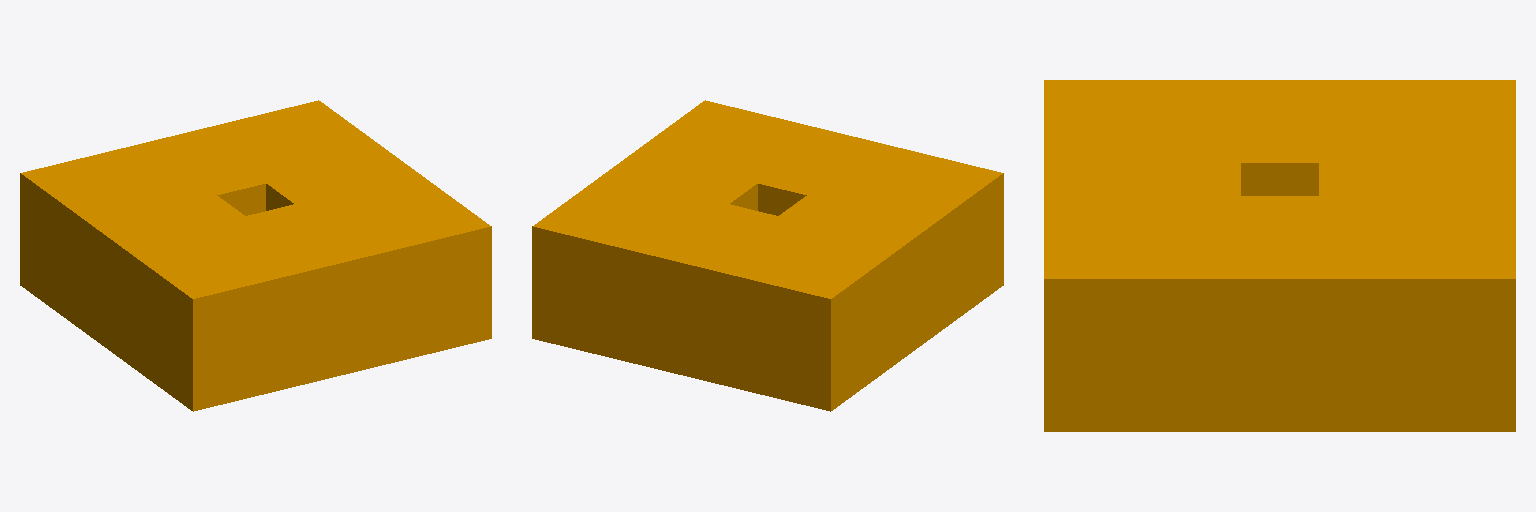
The robot description file, URDF, robot "factory_rectangular_hole_4mm":
<?xml version="1.0"?>
<robot name="factory_rectangular_hole_4mm">
    <link name="factory_rectangular_hole_4mm">
        <visual>
            <geometry>
                <mesh filename="../mesh/factory_insertion/factory_rectangular_hole_4mm_subdiv_3x.obj"/>
            </geometry>
        </visual>
        <collision>
            <geometry>
                <mesh filename="../mesh/factory_insertion/factory_rectangular_hole_4mm_subdiv_3x.obj"/>
            </geometry>
            <sdf resolution="256"/>
        </collision>
    </link>
</robot>

--- Render facts (derived) ---
3 views of the same robot in one strip: view 1: azimuth 30°, elevation 25°; view 2: azimuth 150°, elevation 25°; view 3: azimuth 270°, elevation 25° (orthographic).
Robot: factory_rectangular_hole_4mm — 1 links, 0 joints (none); root link factory_rectangular_hole_4mm; default pose: every joint at zero.
Links seen in each view (by area): view 1: factory_rectangular_hole_4mm; view 2: factory_rectangular_hole_4mm; view 3: factory_rectangular_hole_4mm.
Boxes of the visible links, x1,y1,x2,y2 form: factory_rectangular_hole_4mm: [20, 100, 491, 411]; factory_rectangular_hole_4mm: [532, 100, 1003, 411]; factory_rectangular_hole_4mm: [1044, 80, 1515, 431].
Bounding box of the posed robot: 0.025 × 0.025 × 0.009 m (x, y, z).
Meshes: 1 distinct files referenced, 1 mesh visuals loaded (1 OBJ).